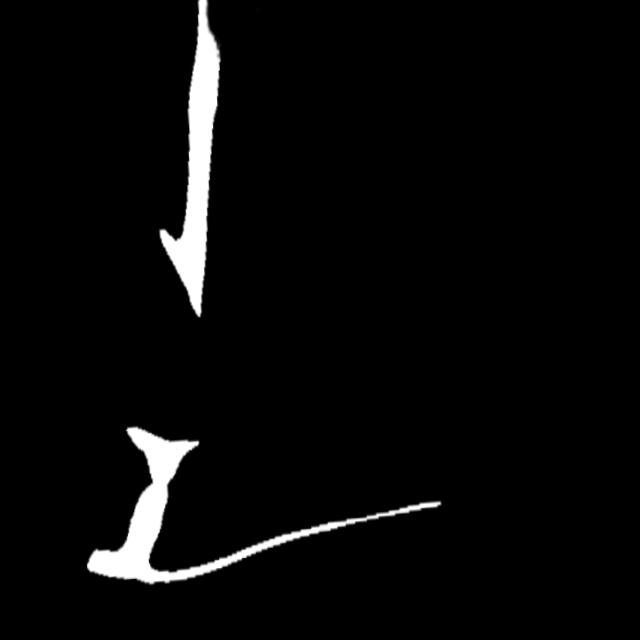sl: (185, 0, 223, 65)
